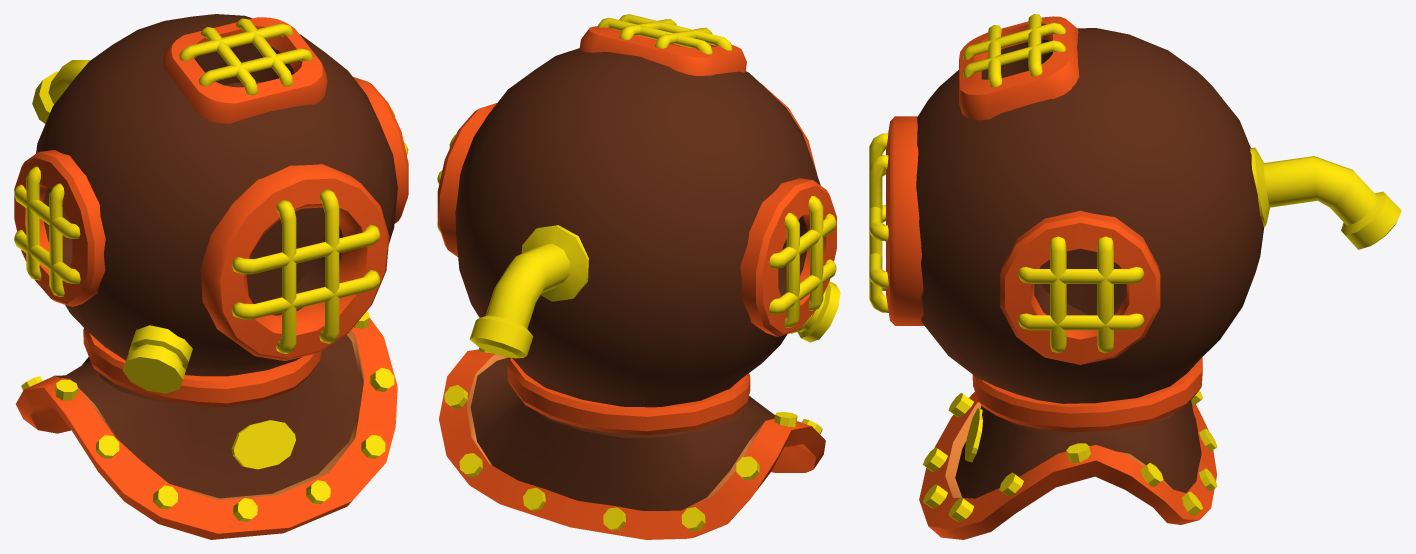
Rendered from Diving_helment.fbx.
3 views of the same model, side by side, from view 1: azimuth 30°, elevation 25°; view 2: azimuth 150°, elevation 25°; view 3: azimuth 270°, elevation 25° (orthographic). The views are drawn at different scales.
Visible parts, largest first — view 1: Diving_helment; view 2: Diving_helment; view 3: Diving_helment.
Boxes of the visible parts, box(x1,y1,x2,y2) form: Diving_helment: box(14, 14, 408, 539); Diving_helment: box(437, 14, 840, 539); Diving_helment: box(869, 14, 1401, 539).
Size of the model in its own units: 0.6772 by 0.8795 by 0.884.
